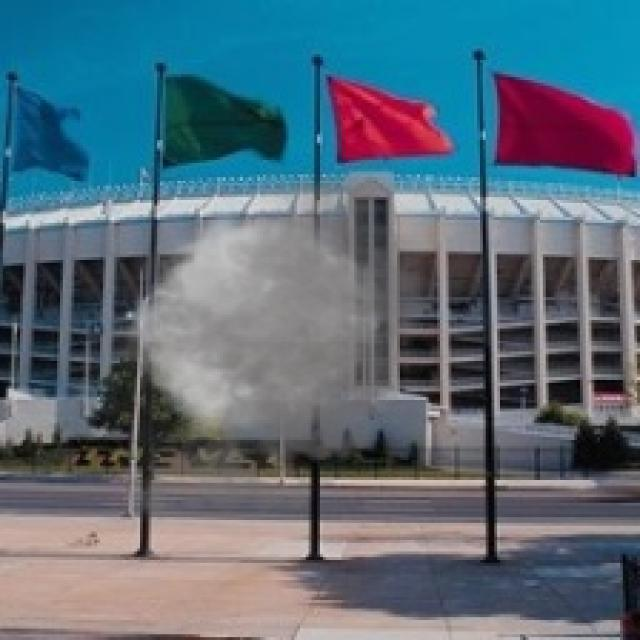smoke: (60, 157, 454, 534)
